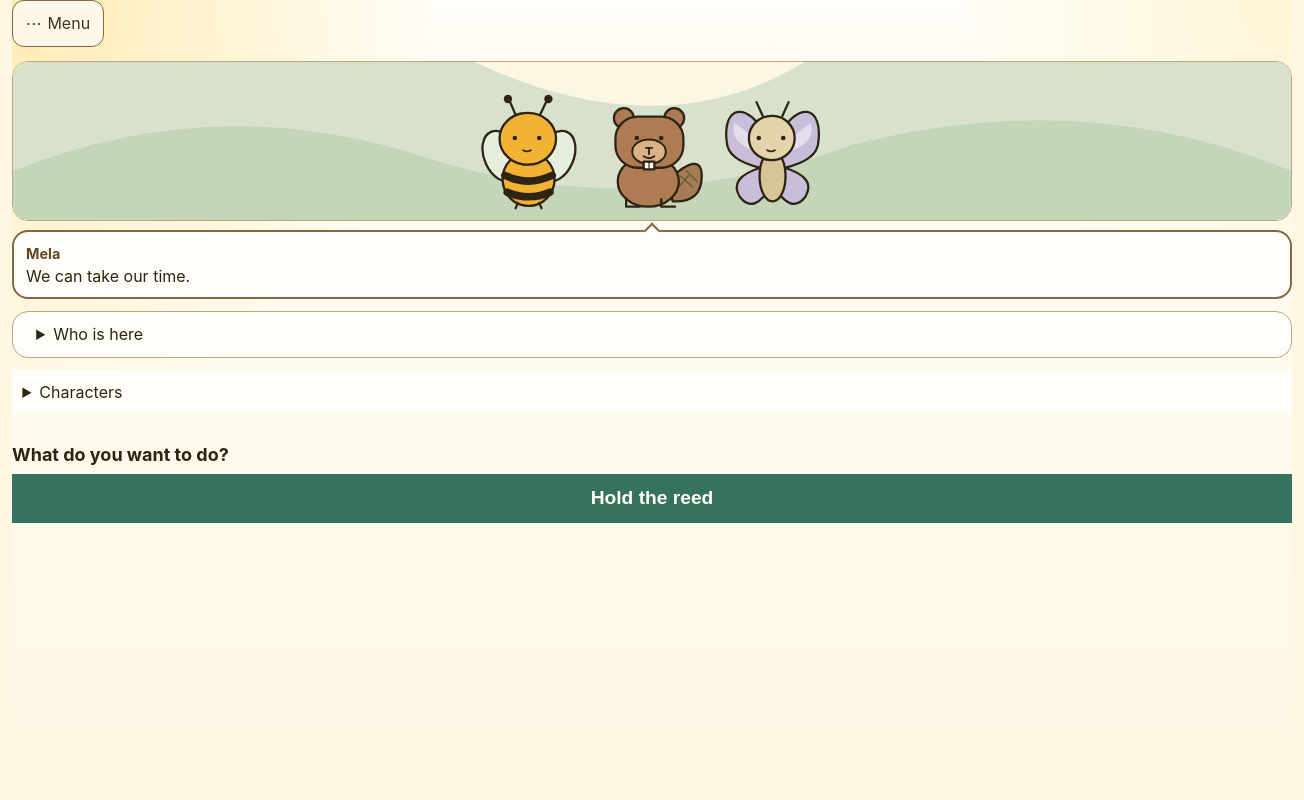
Test case: keeps accepted party state through pending, offline and rejected choices, then updates from one accepted view
Click the button "Hold the reed" at (652, 498), box [12,474,1292,523]
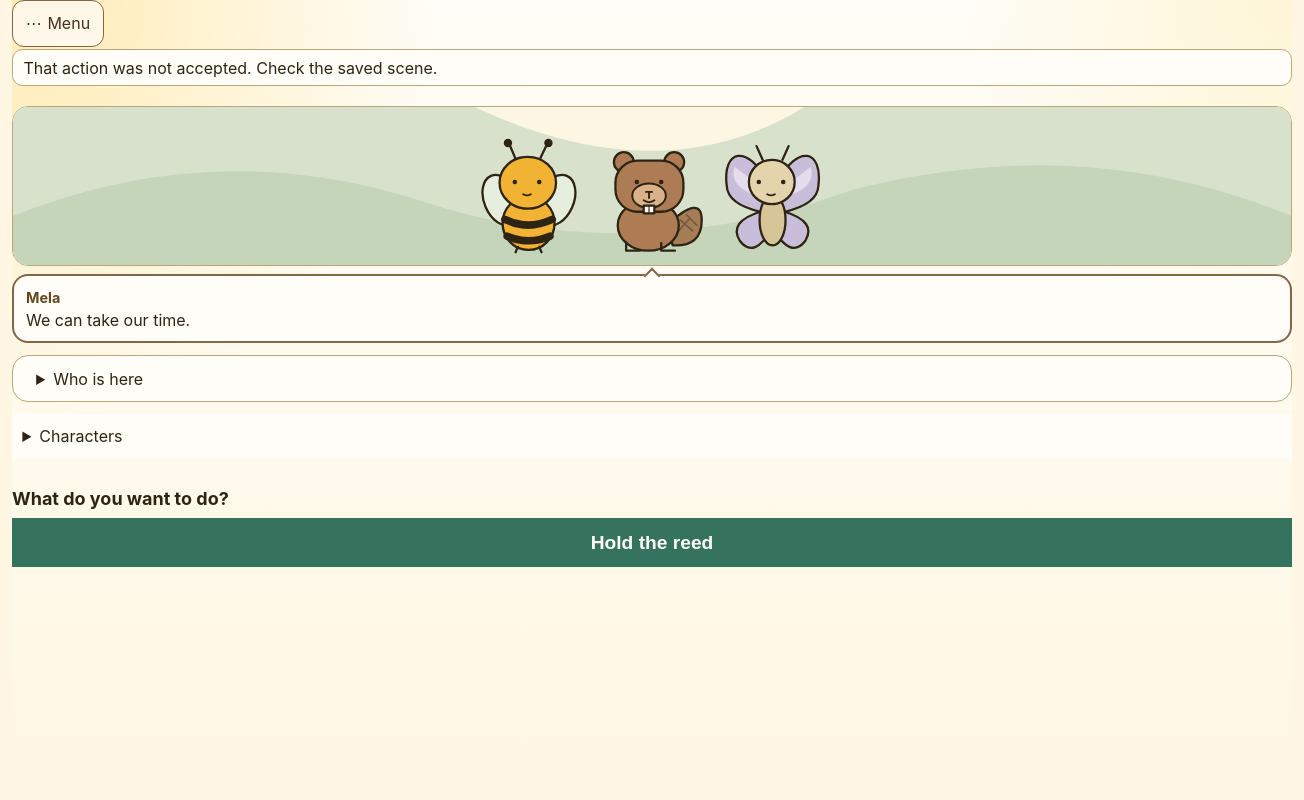
Click the button "Hold the reed" at (652, 543), box [12,518,1292,567]
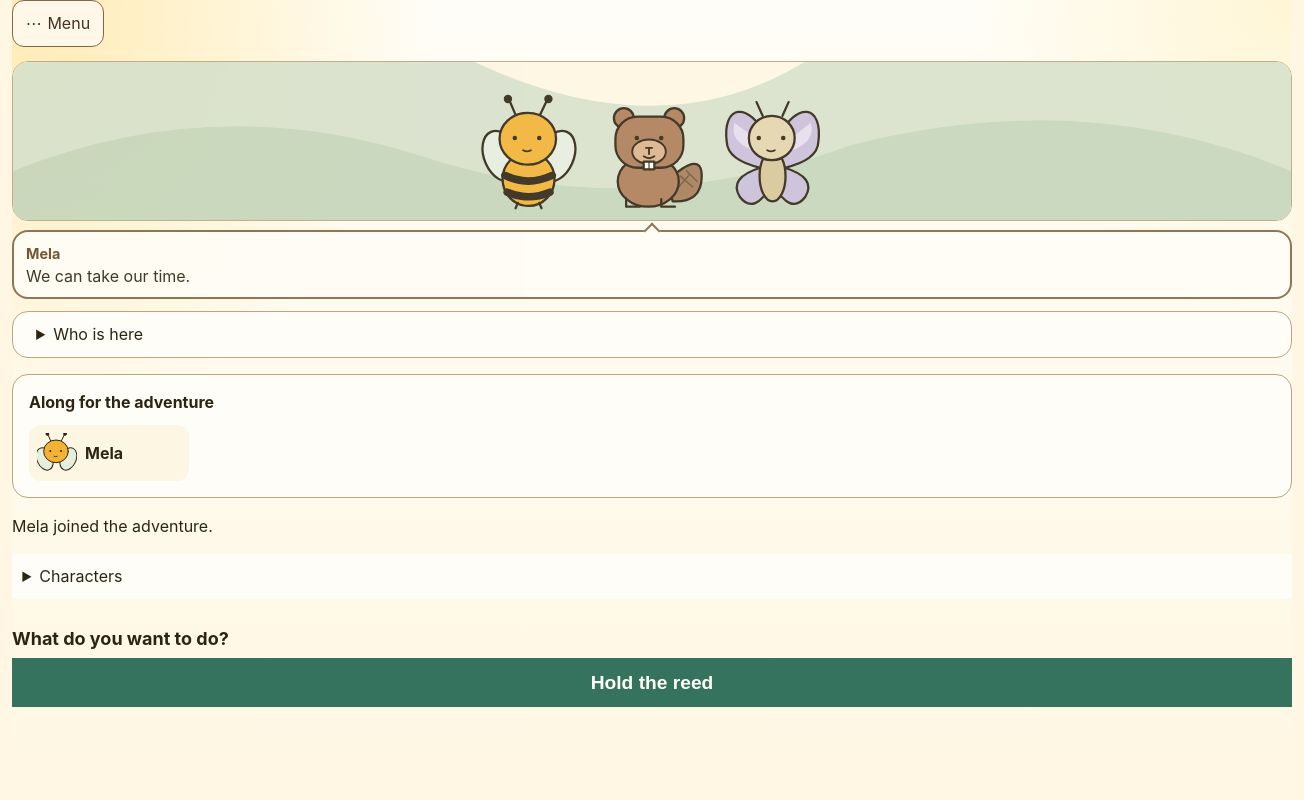
Expected: the list with class "game-party-members" reads "Mela", [85,443,123,463]
Expected: the message with class "game-party-announcement" reads "Mela joined the adventure.", [12,516,213,536]
